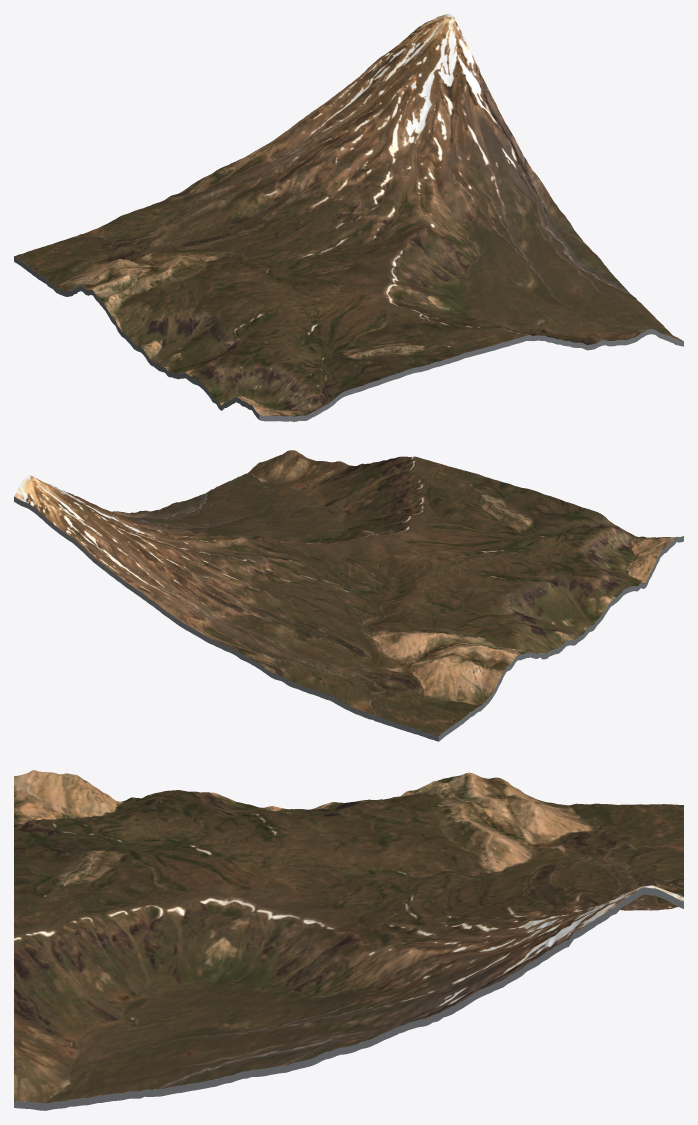
3 views of the same model, one above another, from view 1: azimuth 30°, elevation 25°; view 2: azimuth 150°, elevation 25°; view 3: azimuth 270°, elevation 25° (orthographic). The views are drawn at different scales.
Visible parts, largest first — view 1: terrain, skirt; view 2: terrain, skirt; view 3: terrain, skirt.
Part boxes in pixels (x1,y1,x2,y2): terrain: (14, 14, 683, 416); skirt: (14, 256, 683, 421); terrain: (14, 450, 682, 736); skirt: (14, 496, 683, 741); terrain: (14, 770, 683, 1103); skirt: (14, 887, 683, 1110).
Bounding box in the file's own units: 7500 × 2761 × 7500.
1 material, 1 textured.
